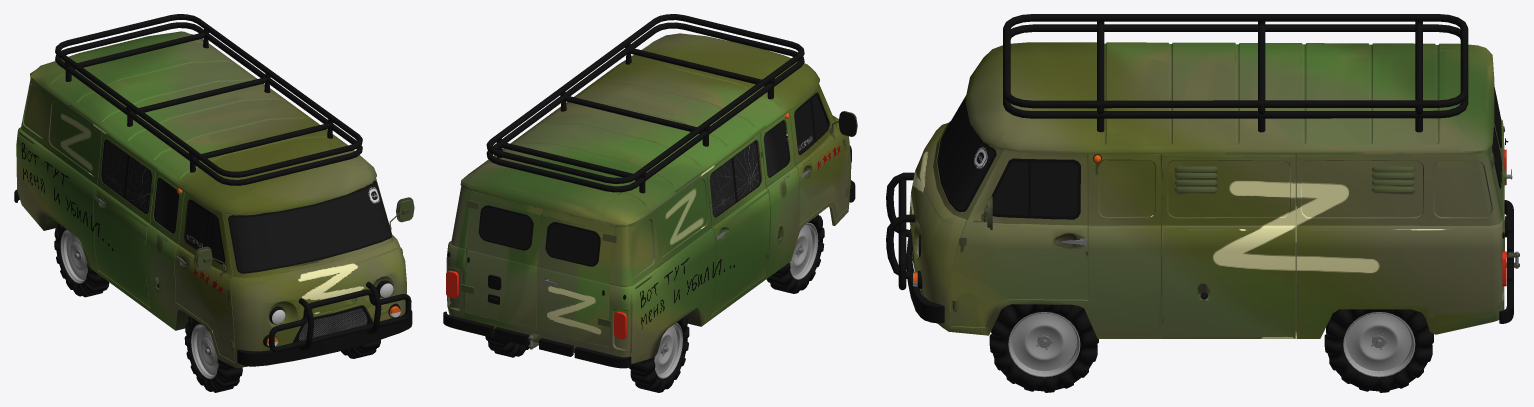
The model's file is buhanka1.fbx.
3 views of the same model, side by side, from view 1: azimuth 30°, elevation 25°; view 2: azimuth 150°, elevation 25°; view 3: azimuth 270°, elevation 25° (orthographic). The views are drawn at different scales.
Visible parts, largest first — view 1: green_Plane.002, black.kangaroo, black.window, black.extras, greydiski.001_Plane.018, deepblack.reshetka, darkgrey2.main, green2_Plane.013, darkgreen.extras, white_Plane.028; view 2: green_Plane.002, black.kangaroo, black.window, black.extras, greydiski.001_Plane.018, red.002_Plane.027, green2_Plane.013; view 3: green_Plane.002, black.kangaroo, black.extras, black.window, greydiski.001_Plane.018, green2_Plane.013, darkgrey.extras.
Boxes of the visible parts, x1,y1,x2,y2 form: green_Plane.002: [16, 31, 406, 368]; black.kangaroo: [55, 14, 411, 352]; black.window: [102, 141, 391, 271]; black.extras: [14, 139, 412, 392]; greydiski.001_Plane.018: [60, 229, 218, 379]; deepblack.reshetka: [299, 308, 366, 340]; darkgrey2.main: [299, 308, 367, 340]; green2_Plane.013: [145, 188, 414, 348]; darkgreen.extras: [145, 187, 414, 295]; white_Plane.028: [267, 283, 400, 346]; green_Plane.002: [446, 33, 851, 363]; black.kangaroo: [486, 14, 851, 193]; black.window: [480, 95, 856, 264]; black.extras: [443, 92, 855, 392]; greydiski.001_Plane.018: [654, 223, 818, 378]; red.002_Plane.027: [446, 270, 626, 339]; green2_Plane.013: [461, 126, 848, 327]; green_Plane.002: [909, 42, 1504, 338]; black.kangaroo: [886, 14, 1468, 290]; black.extras: [906, 86, 1513, 392]; black.window: [938, 91, 1500, 216]; greydiski.001_Plane.018: [1008, 312, 1415, 377]; green2_Plane.013: [952, 84, 1506, 309]; darkgrey.extras: [1036, 169, 1518, 349].
Size of the model in its own units: 226 by 220 by 440.
12 materials, 2 textured.
